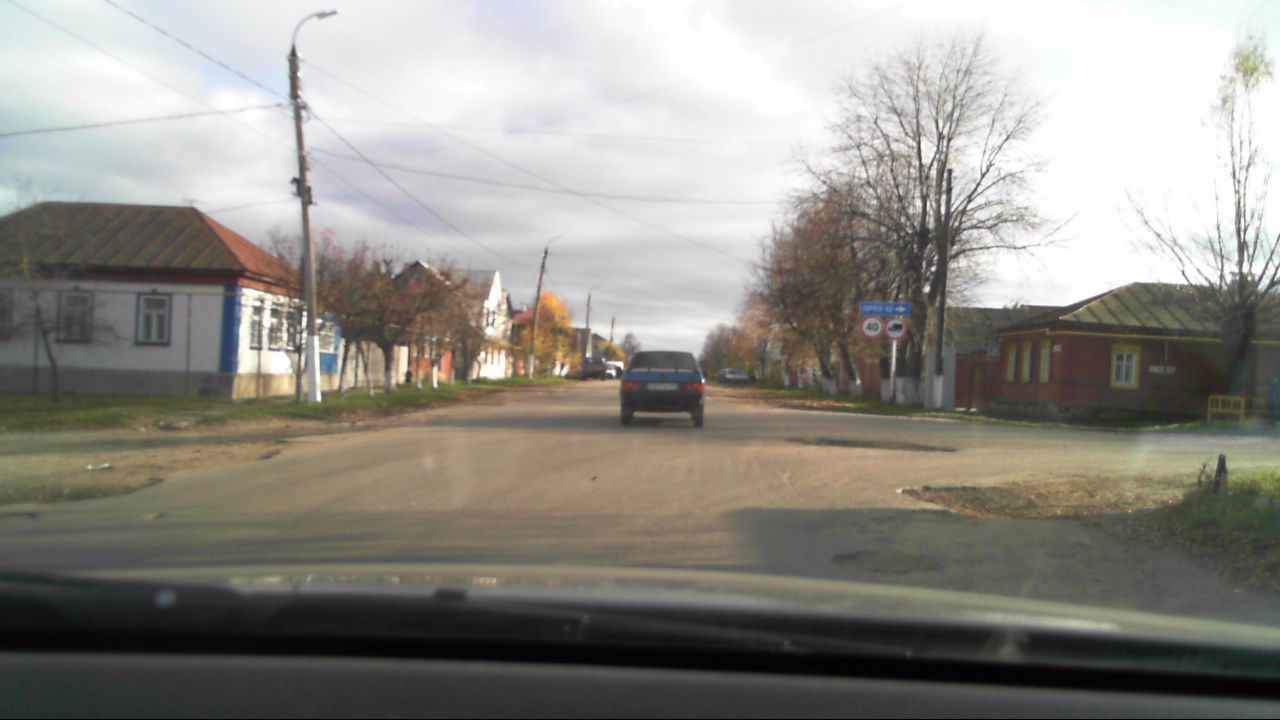speed_warning_40: (862, 317, 881, 338)
